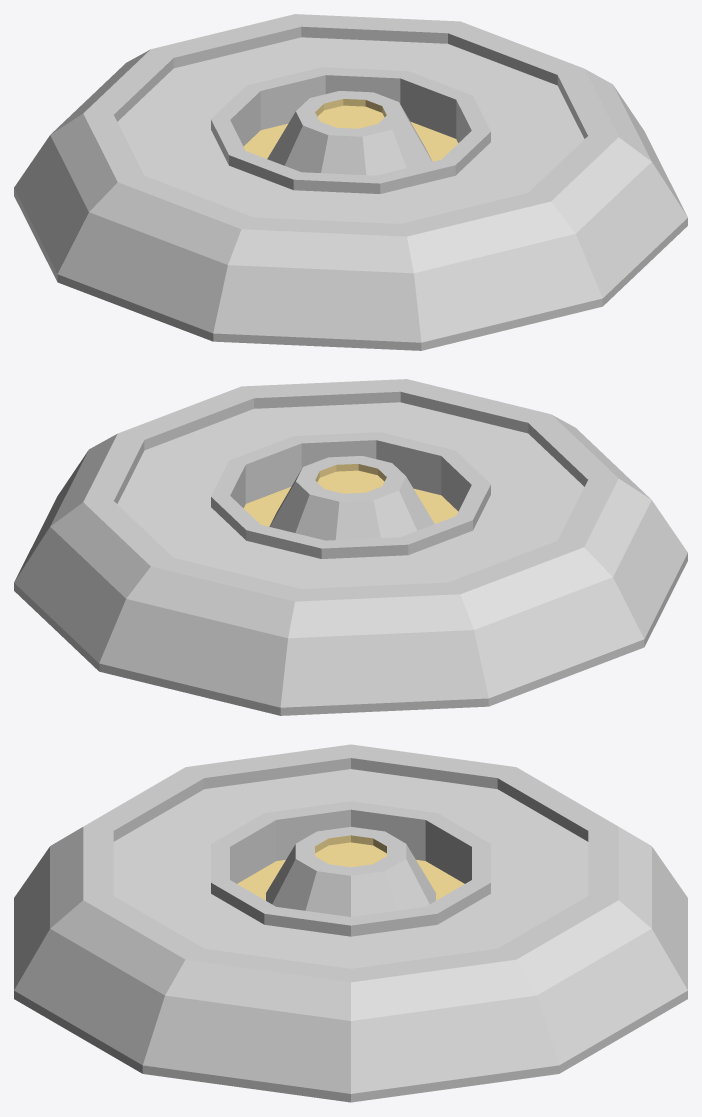
The model's file is SciFi_Modular_Lighting_Aparatus_Bridge_Large_White_01.fbx.
3 views of the same model, one above another, from view 1: azimuth 30°, elevation 25°; view 2: azimuth 150°, elevation 25°; view 3: azimuth 270°, elevation 25° (orthographic). The views are drawn at different scales.
Parts seen in each view (by area): view 1: SciFi_Modular_Lighting_Aparatus_Bridge_Large_White_01; view 2: SciFi_Modular_Lighting_Aparatus_Bridge_Large_White_01; view 3: SciFi_Modular_Lighting_Aparatus_Bridge_Large_White_01.
Boxes of the visible parts, x1,y1,x2,y2 form: SciFi_Modular_Lighting_Aparatus_Bridge_Large_White_01: (14,14,687,350); SciFi_Modular_Lighting_Aparatus_Bridge_Large_White_01: (14,379,687,715); SciFi_Modular_Lighting_Aparatus_Bridge_Large_White_01: (14,744,687,1102).
Size of the model in its own units: 11066 by 1749 by 10525.
